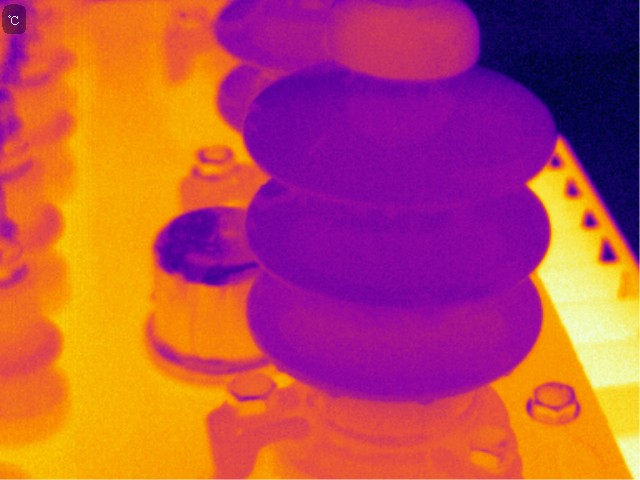Oil: (326, 1, 478, 85), (344, 91, 460, 143), (258, 189, 294, 210), (273, 358, 293, 375), (326, 385, 345, 402), (413, 392, 436, 406)
